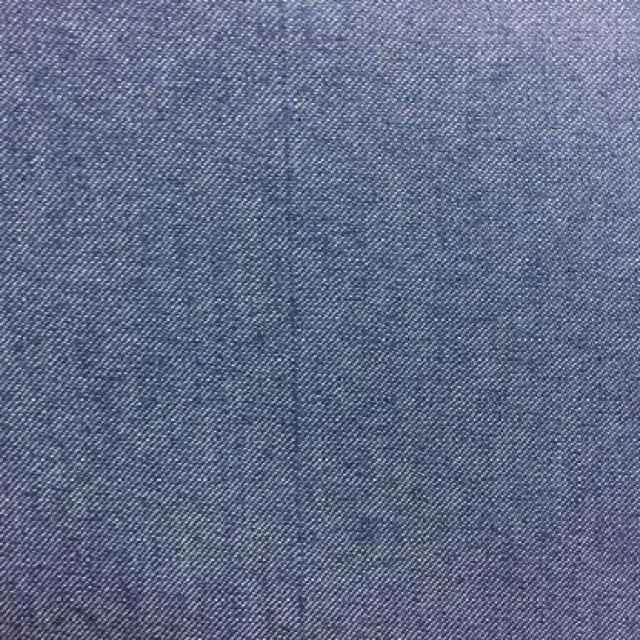pulled_or_thick_thread: (271, 7, 316, 634)
